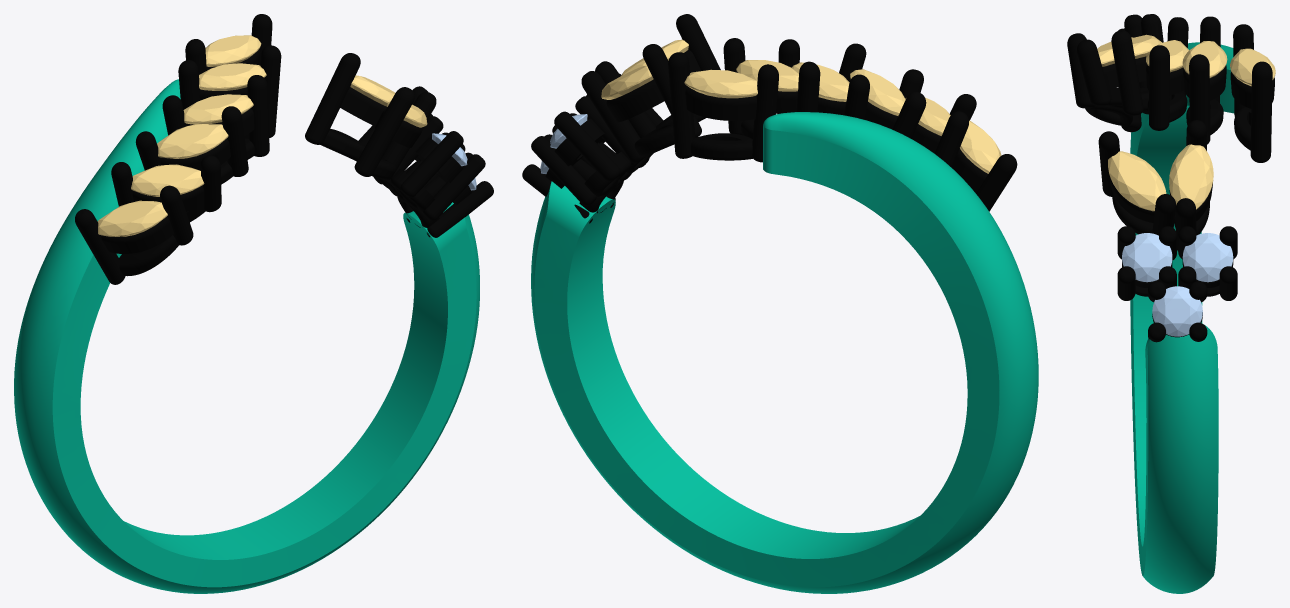
The picture shows the model from 3 angles, left to right: view 1: azimuth 30°, elevation 25°; view 2: azimuth 150°, elevation 25°; view 3: azimuth 270°, elevation 25°; orthographic projection. The views are drawn at different scales.
Parts seen in each view (by area): view 1: REND.3dm, Diamond_Marquise (×7); view 2: REND.3dm, Diamond_Marquise (×7); view 3: REND.3dm, Diamond_Marquise (×7), Diamond_Round (×3).
Part boxes in pixels (x1,y1,x2,y2): REND.3dm: (14,14,493,593); Diamond_Marquise (×7): (97,35,395,236); REND.3dm: (522,14,1038,593); Diamond_Marquise (×7): (601,60,1001,173); REND.3dm: (1067,14,1274,593); Diamond_Marquise (×7): (1097,34,1275,211); Diamond_Round (×3): (1122,233,1233,336).
Size of the model in its own units: 2.65 by 2.83 by 0.9985.
